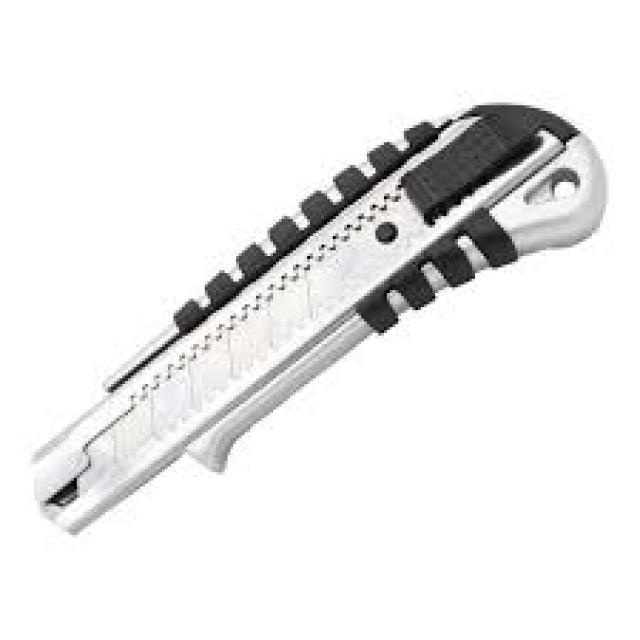cutter: (9, 86, 610, 552)
